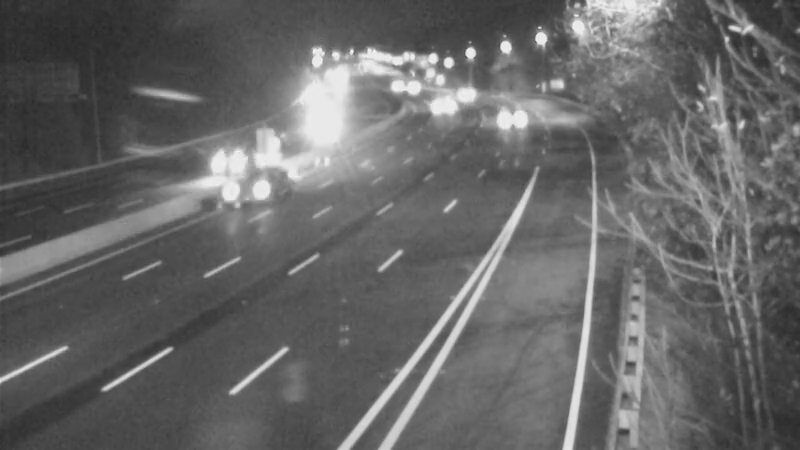vehicle: (213, 150, 293, 230), (187, 126, 267, 206), (370, 61, 420, 111), (387, 63, 437, 113), (442, 67, 492, 117), (417, 74, 467, 124), (479, 83, 529, 133), (261, 114, 311, 164)
